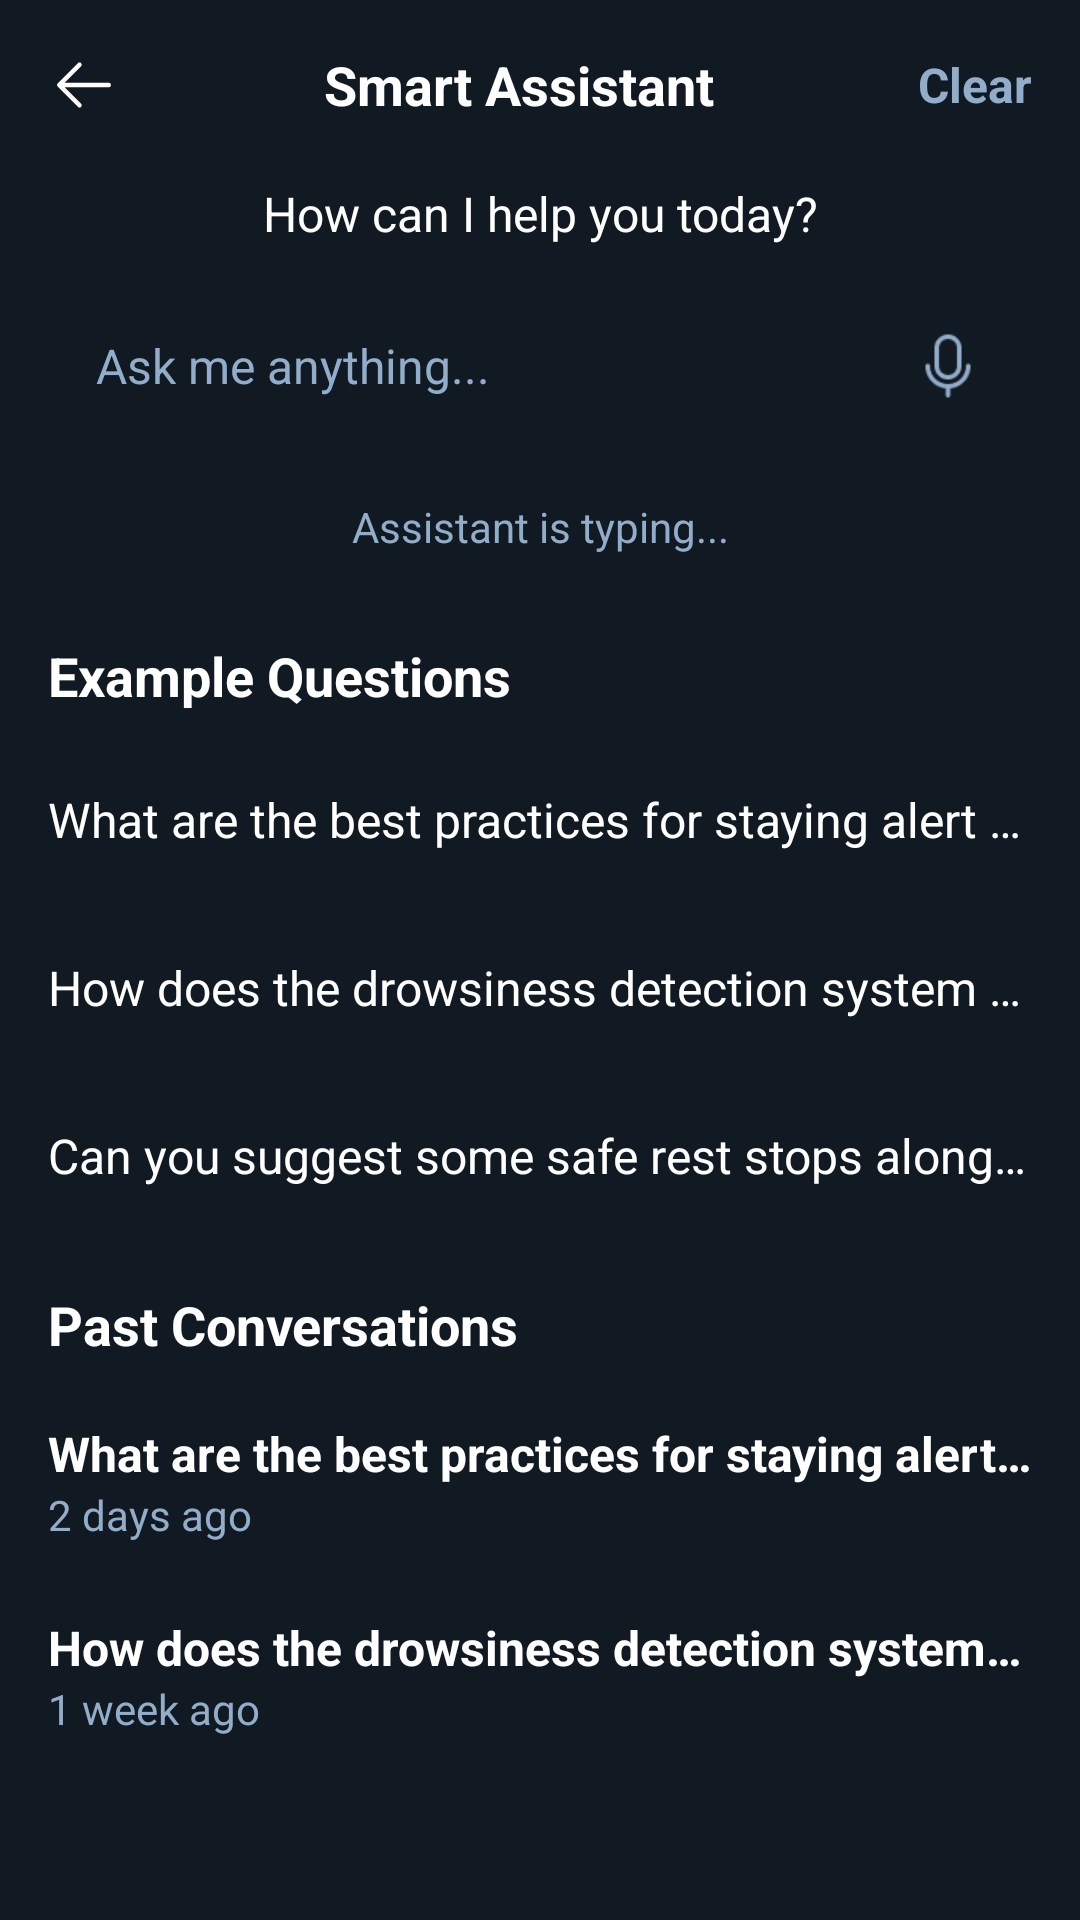

Icons on this 1080×1920 Android screen, each with the point to tap as (x,y):
Back: (84,85)
mic: (948,366)
